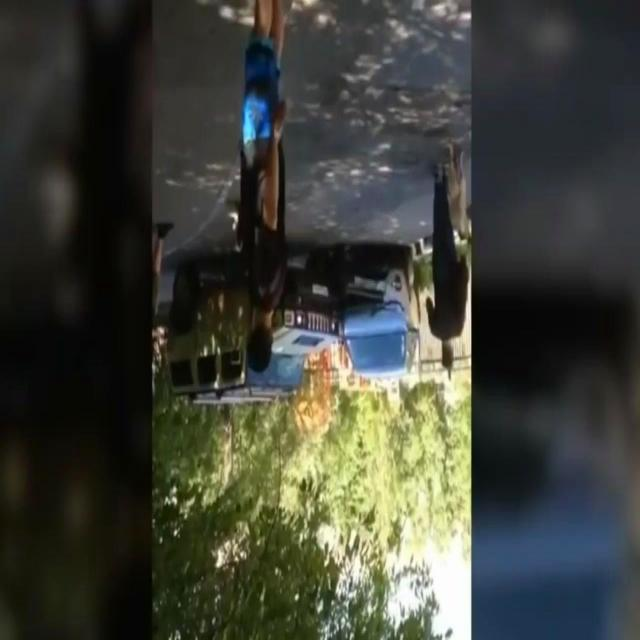moderate: (164, 242, 423, 410)
